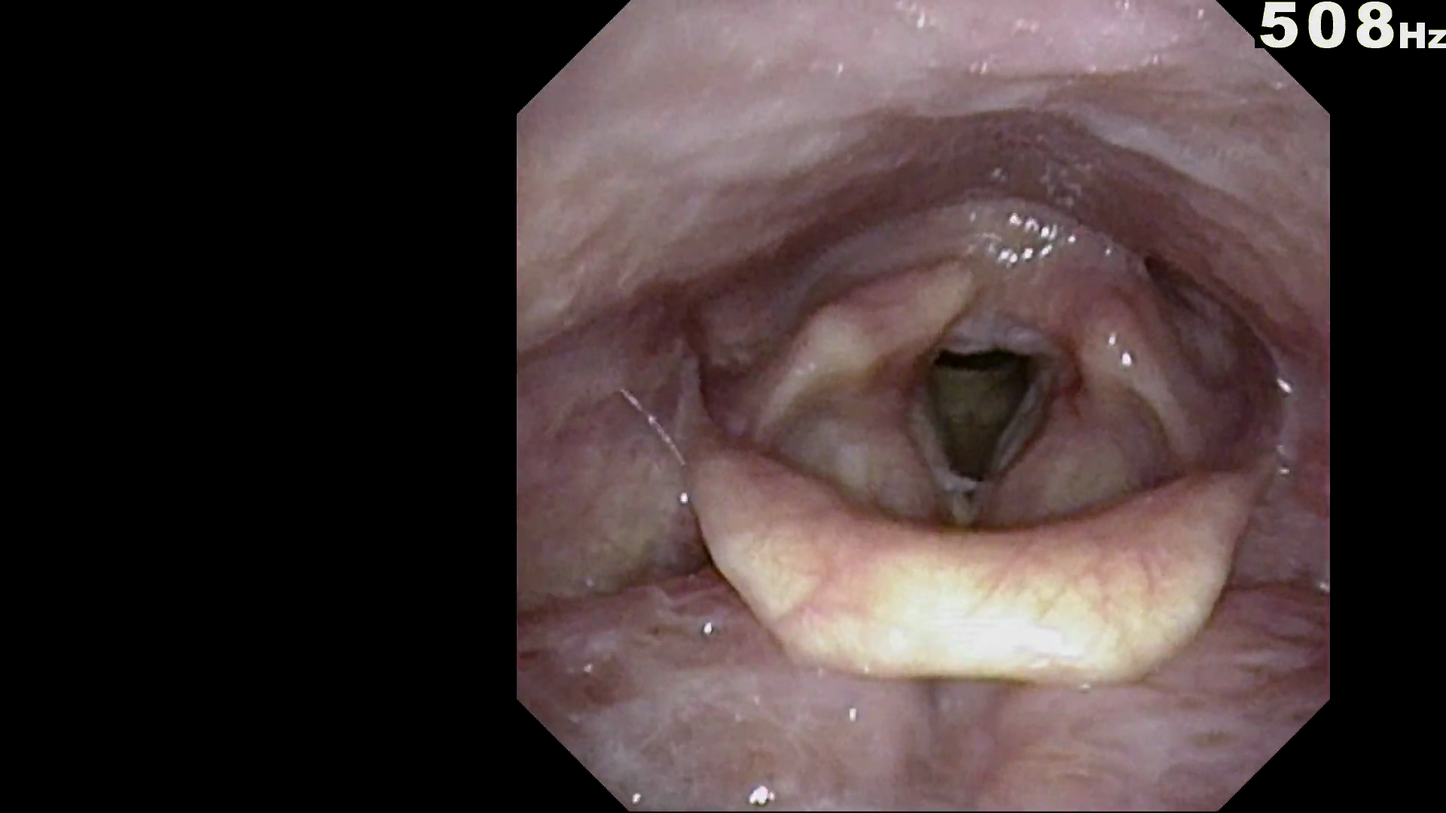epiglottis: (675, 396, 1277, 705)
trachea: (868, 314, 1083, 531)
